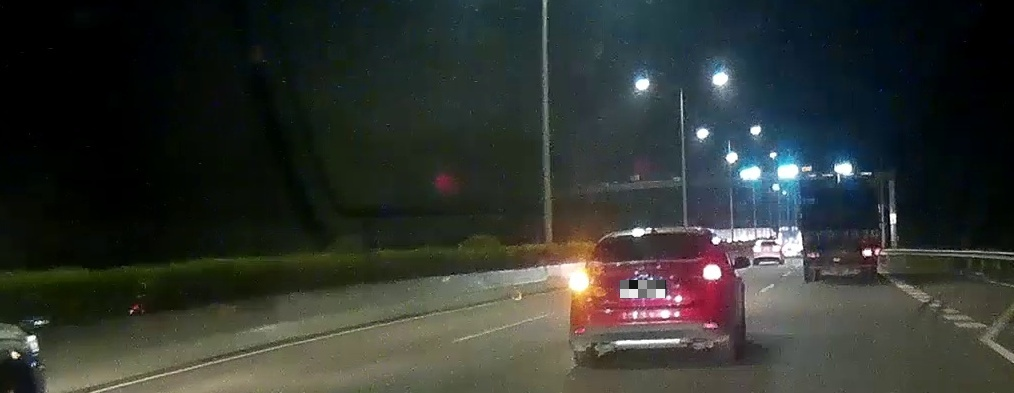L_light: (571, 272, 591, 292), (804, 251, 821, 259)
R_light: (700, 262, 723, 283), (862, 248, 880, 257)
T_light: (638, 235, 659, 239), (833, 177, 846, 182)
night-left: (567, 227, 730, 362)
night-no: (799, 175, 882, 283)
plate_1: (620, 280, 666, 298)
